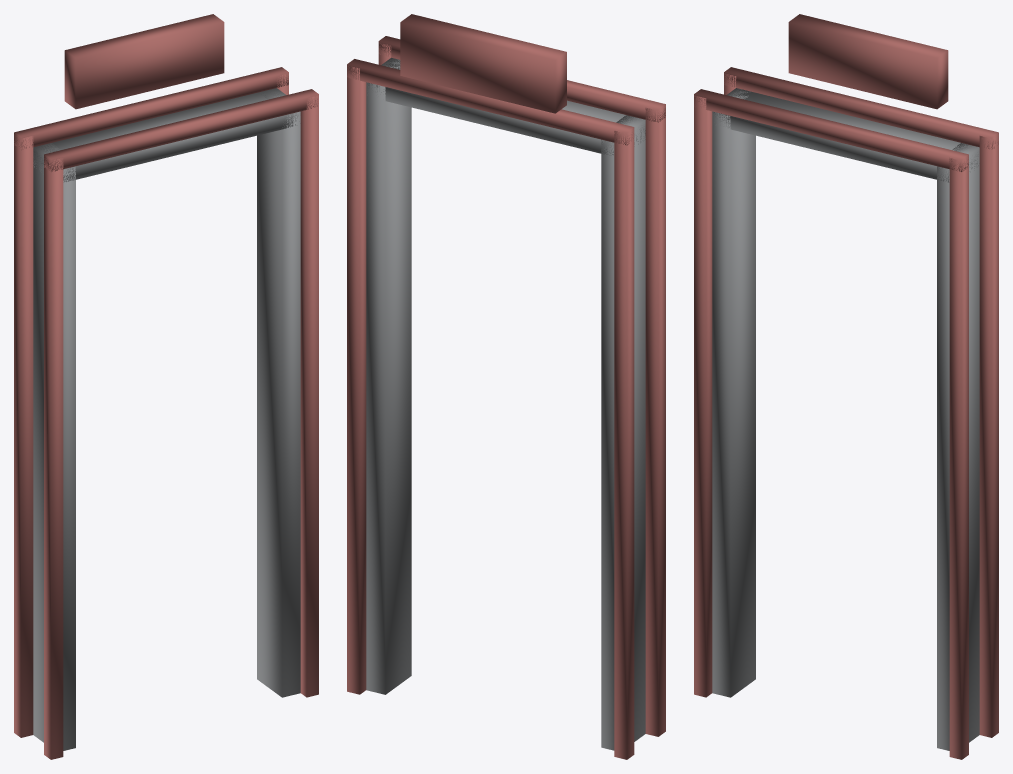
File: doorway_emergency_exit_w76_h200_d16.glb
The picture shows the model from 3 angles, left to right: view 1: azimuth 30°, elevation 25°; view 2: azimuth 150°, elevation 25°; view 3: azimuth 330°, elevation 25°; orthographic projection. The views are drawn at different scales.
Visible parts, largest first — view 1: world; view 2: world; view 3: world.
Part boxes in pixels (<box>): world: <box>14,14,318,759</box>; world: <box>347,14,665,759</box>; world: <box>694,14,998,759</box>.
Bounding box in the file's own units: 0.9868 × 2.33 × 0.2932.
